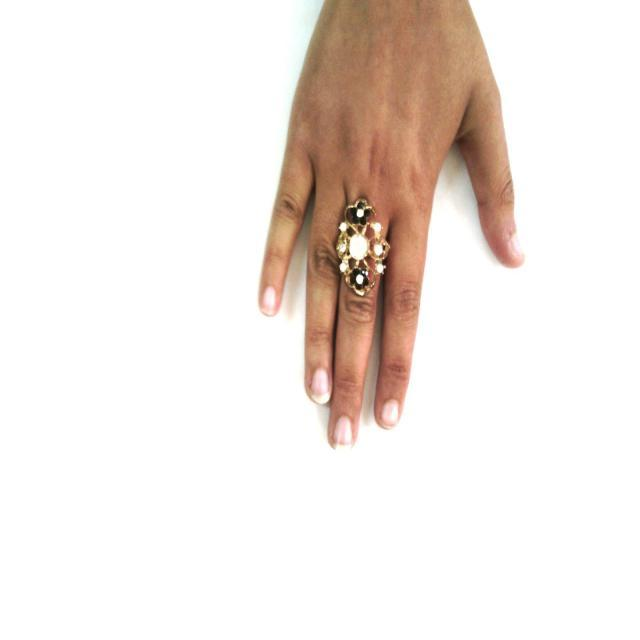Fingernail: (333, 415, 354, 453), (311, 369, 330, 404), (382, 399, 399, 428), (262, 287, 276, 314), (510, 234, 524, 258)
